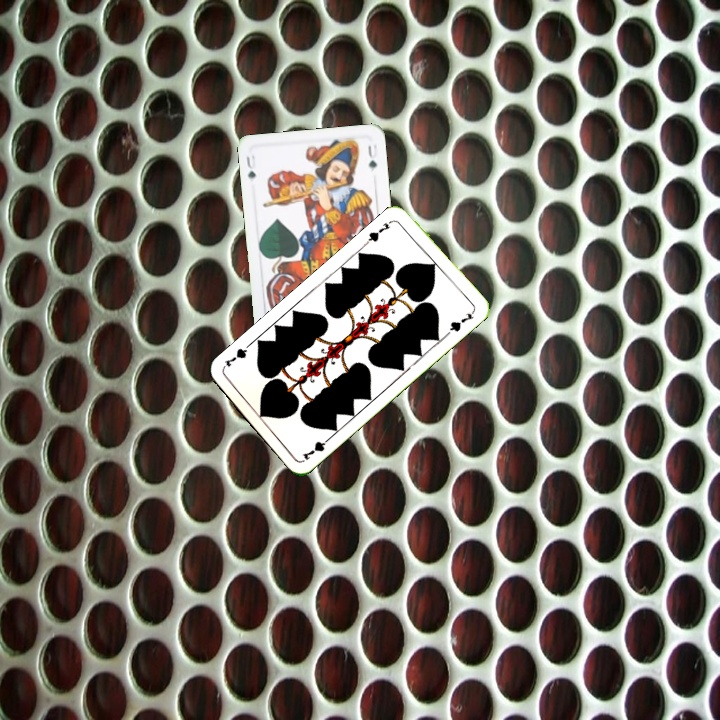G7: (298, 432, 334, 463), (362, 216, 396, 247)
GU: (242, 151, 259, 182)
